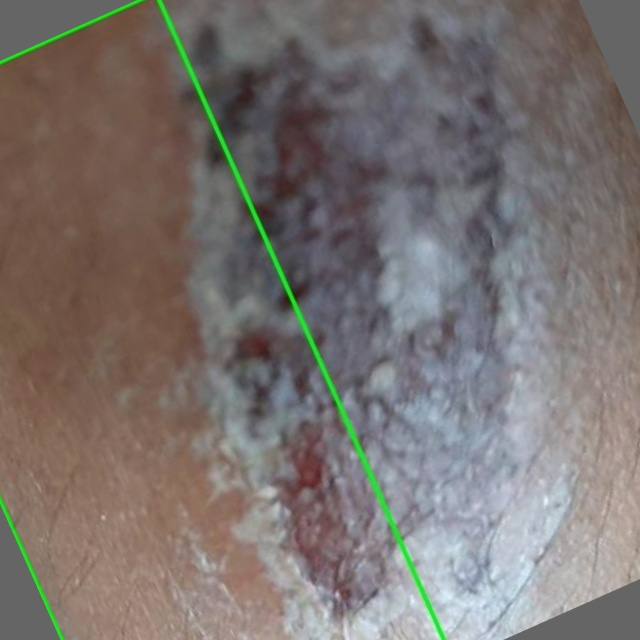Atopic Dermatitis: (0, 0, 443, 639)
